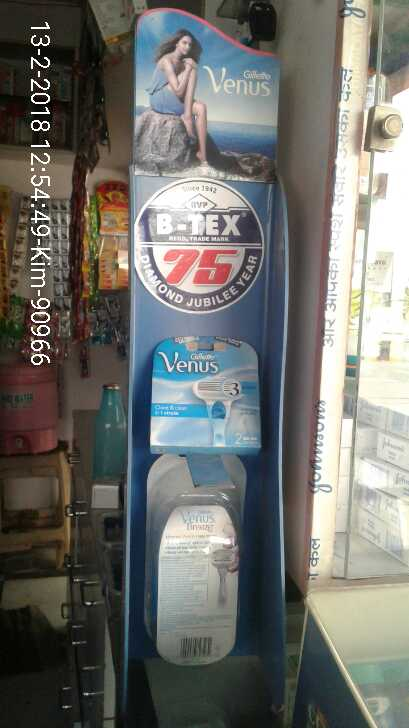venus: (150, 337, 264, 453)
